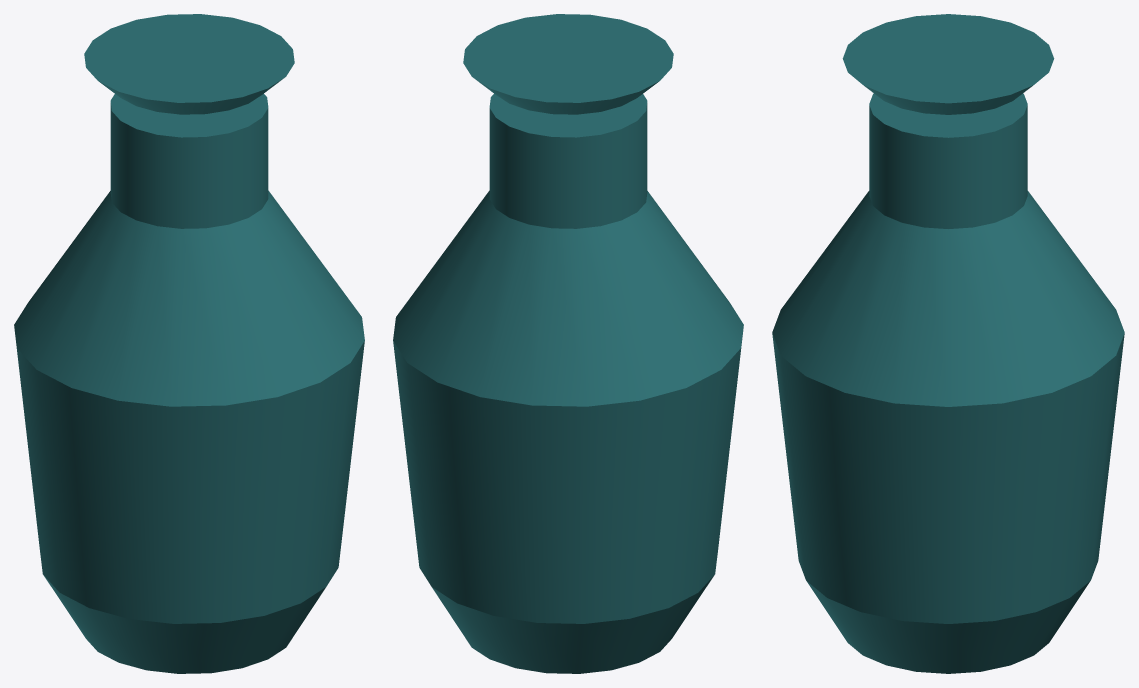
File: jarron.glb
3 renders of one model, left to right at view 1: azimuth 30°, elevation 25°; view 2: azimuth 150°, elevation 25°; view 3: azimuth 270°, elevation 25°, orthographic.
Visible parts, largest first — view 1: panza, hombro, cuello, boca, base; view 2: panza, hombro, cuello, boca, base; view 3: panza, hombro, cuello, boca, base.
Part boxes in pixels (x1,y1,x2,y2): panza: [14, 331, 364, 623]; hombro: [14, 190, 364, 406]; cuello: [110, 94, 268, 228]; boca: [84, 14, 294, 114]; base: [43, 575, 325, 673]; panza: [393, 331, 743, 623]; hombro: [393, 190, 743, 406]; cuello: [489, 94, 647, 228]; boca: [463, 14, 673, 114]; base: [432, 575, 714, 673]; panza: [772, 333, 1124, 623]; hombro: [772, 191, 1124, 406]; cuello: [869, 93, 1027, 228]; boca: [842, 14, 1054, 114]; base: [806, 581, 1090, 673].
Bounding box in the file's own units: 0.14 × 0.25 × 0.14.
